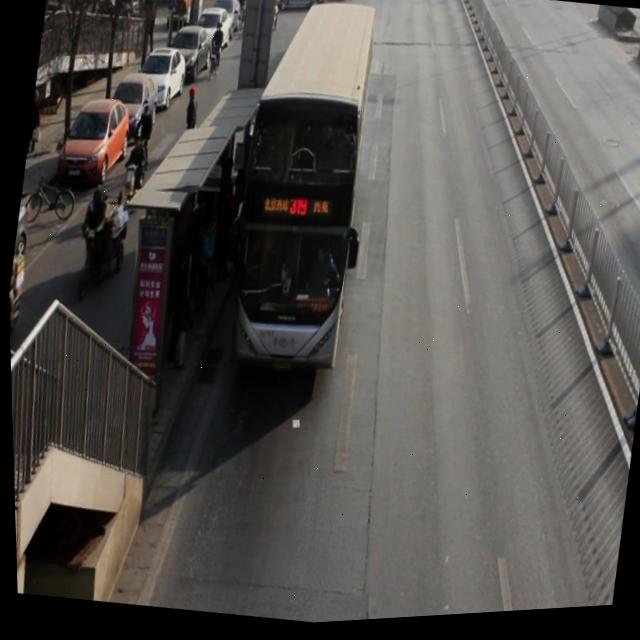van: (213, 0, 387, 377)
